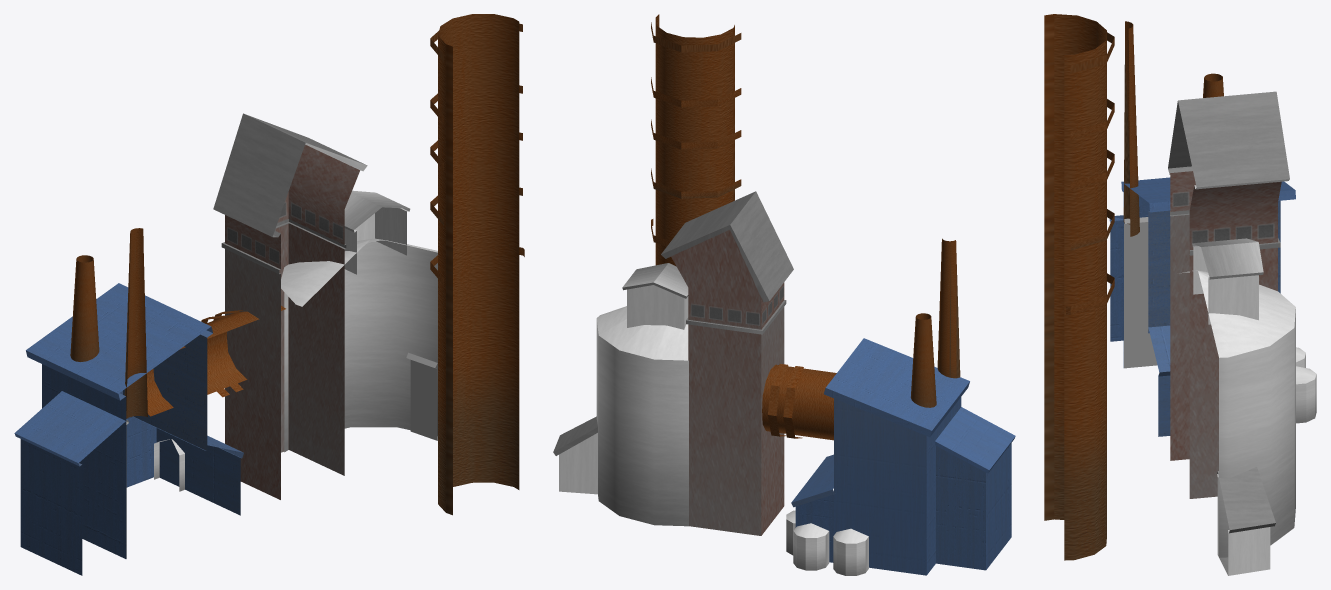
Rendered from Refinery.fbx.
The picture shows the model from 3 angles, left to right: view 1: azimuth 30°, elevation 25°; view 2: azimuth 150°, elevation 25°; view 3: azimuth 270°, elevation 25°; orthographic projection. The views are drawn at different scales.
Visible parts, largest first — view 1: polySurface11, polySurface4, polySurface5, polySurface7, polySurface6, polySurface17, polySurface2, polySurface8, polySurface21, polySurface3; view 2: polySurface4, polySurface5, polySurface7, polySurface11, polySurface6, polySurface2, polySurface8, polySurface3, polySurface17, polySurface21, polySurface18, polySurface22 (+6 smaller); view 3: polySurface11, polySurface4, polySurface7, polySurface5, polySurface6, polySurface3, polySurface2, polySurface17, polySurface18, polySurface15, polySurface21, polySurface14 (+3 smaller).
Part boxes in pixels (bbox=[...]): polySurface11: bbox=[438, 14, 519, 515]; polySurface4: bbox=[213, 113, 367, 499]; polySurface5: bbox=[26, 283, 243, 558]; polySurface7: bbox=[281, 238, 437, 452]; polySurface6: bbox=[14, 391, 128, 575]; polySurface17: bbox=[124, 228, 147, 424]; polySurface2: bbox=[344, 190, 410, 274]; polySurface8: bbox=[147, 305, 285, 416]; polySurface21: bbox=[70, 255, 99, 361]; polySurface3: bbox=[406, 352, 437, 440]; polySurface4: bbox=[661, 191, 793, 535]; polySurface5: bbox=[791, 338, 969, 575]; polySurface7: bbox=[596, 306, 688, 526]; polySurface11: bbox=[655, 14, 734, 266]; polySurface6: bbox=[935, 407, 1015, 570]; polySurface2: bbox=[622, 263, 688, 329]; polySurface8: bbox=[762, 364, 836, 440]; polySurface3: bbox=[553, 416, 597, 494]; polySurface17: bbox=[937, 238, 960, 378]; polySurface21: bbox=[910, 313, 936, 407]; polySurface18: bbox=[793, 523, 829, 570]; polySurface22: bbox=[833, 528, 868, 575]; polySurface11: bbox=[1044, 14, 1106, 560]; polySurface4: bbox=[1168, 91, 1289, 498]; polySurface7: bbox=[1179, 270, 1295, 557]; polySurface5: bbox=[1121, 177, 1295, 436]; polySurface6: bbox=[1109, 215, 1157, 368]; polySurface3: bbox=[1217, 467, 1275, 575]; polySurface2: bbox=[1192, 238, 1263, 324]; polySurface17: bbox=[1123, 21, 1139, 236]; polySurface18: bbox=[1296, 366, 1316, 423]; polySurface15: bbox=[1066, 273, 1114, 314]; polySurface21: bbox=[1203, 73, 1223, 97]; polySurface14: bbox=[1070, 209, 1114, 250].
Size of the model in its own units: 74.31 by 70.58 by 34.44.
